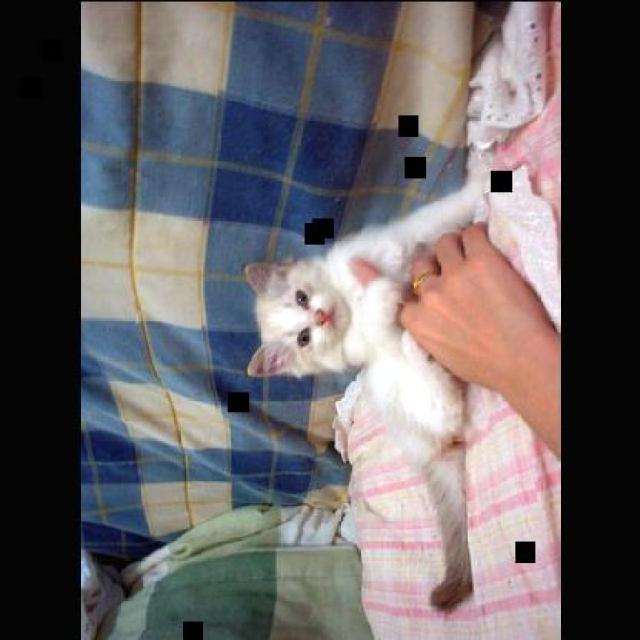unauthorized: (242, 178, 488, 611)
